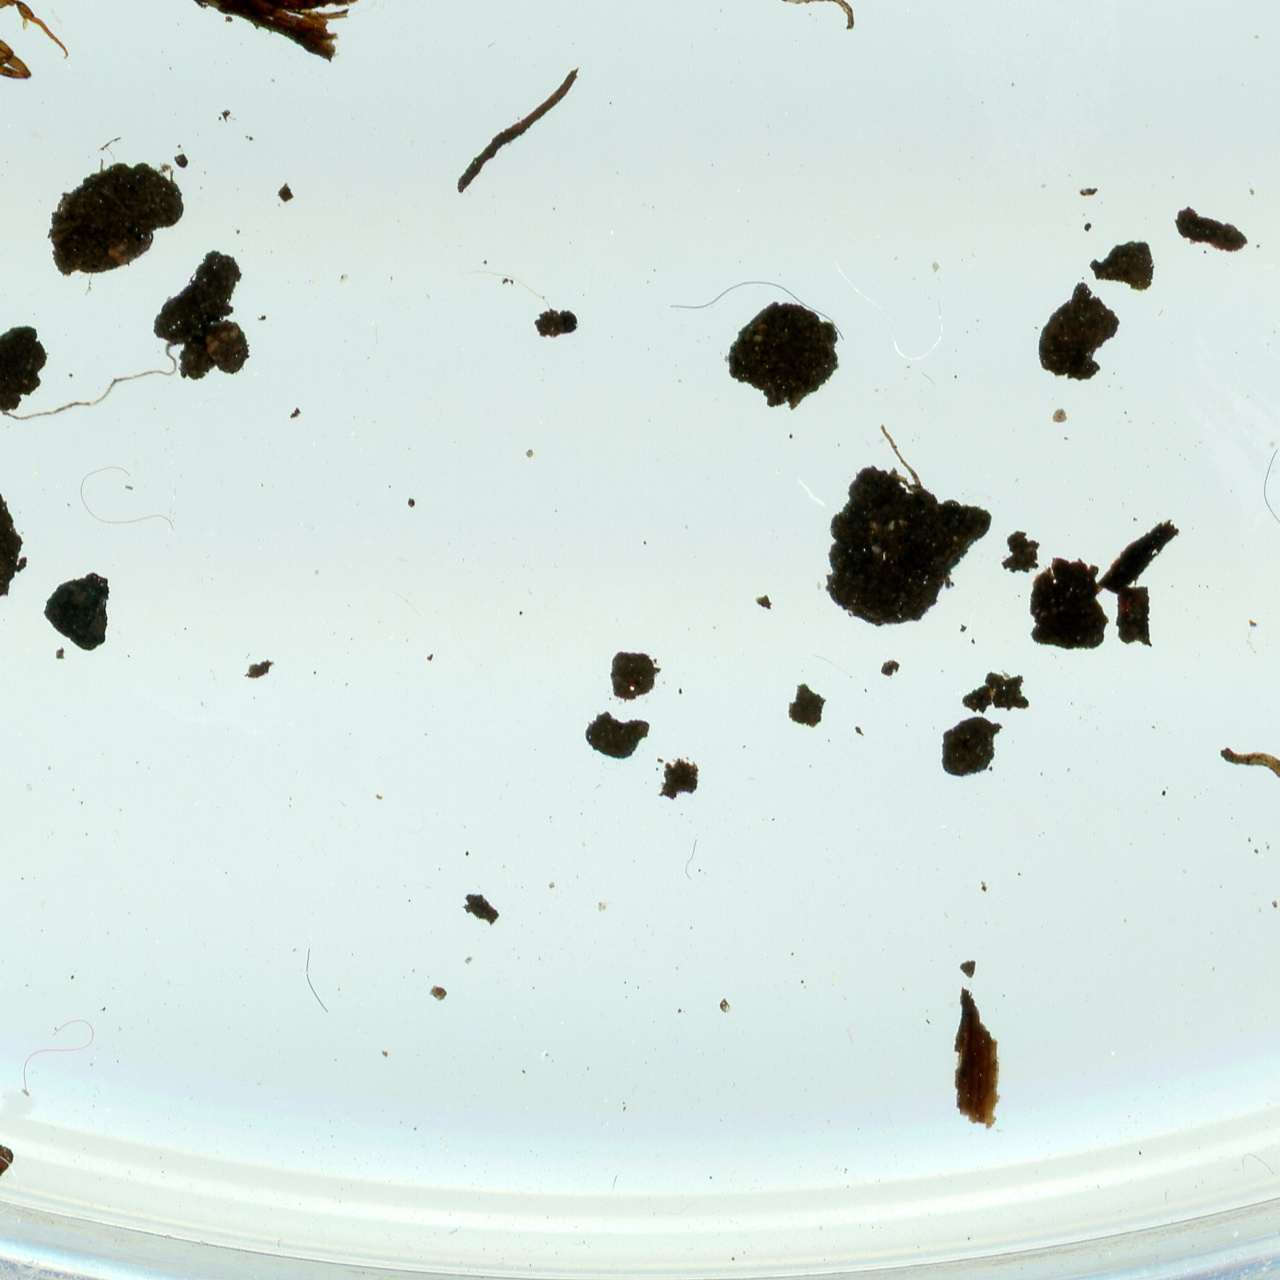arthropod: (0, 0, 75, 96)
